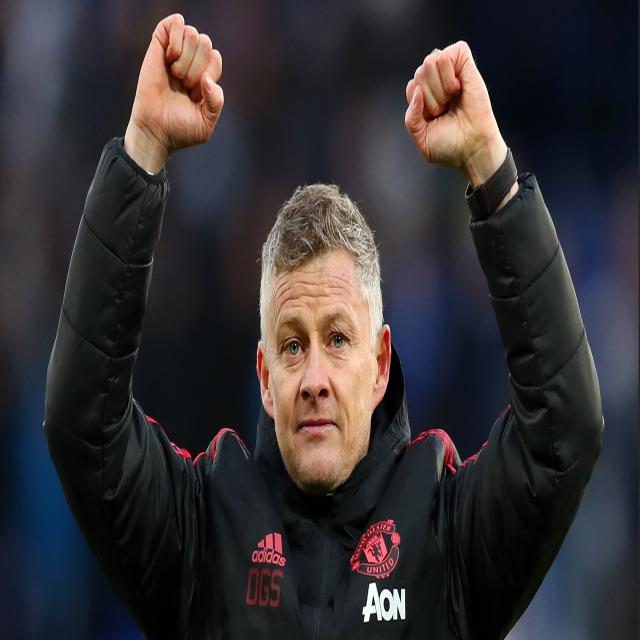human: (37, 5, 607, 640)
